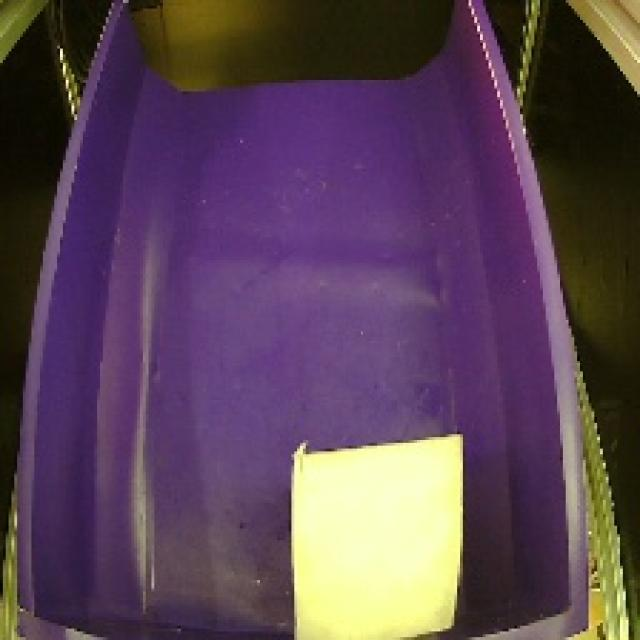white_radish: (268, 405, 471, 640)
